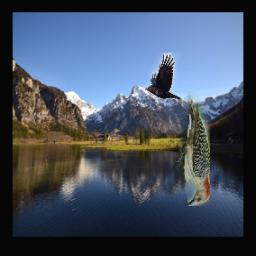Crow: (144, 53, 180, 100)
Woodpecker: (174, 92, 211, 207)
